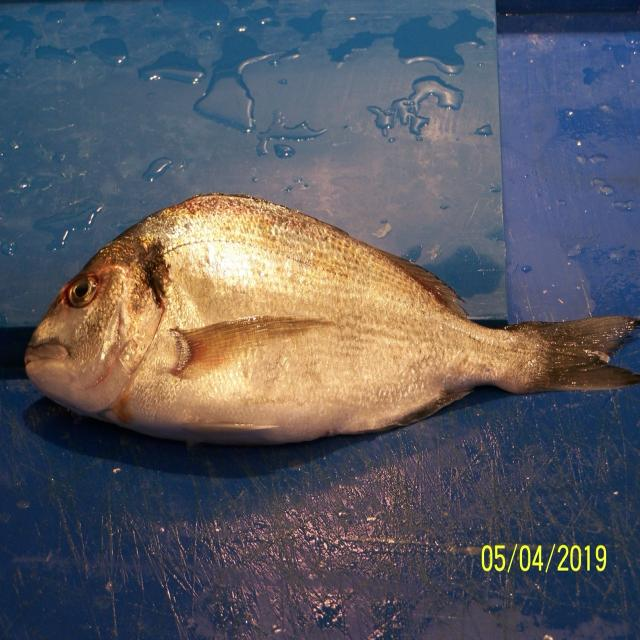Gilt-Head-Bream-c-ipura-: (24, 192, 640, 448)
